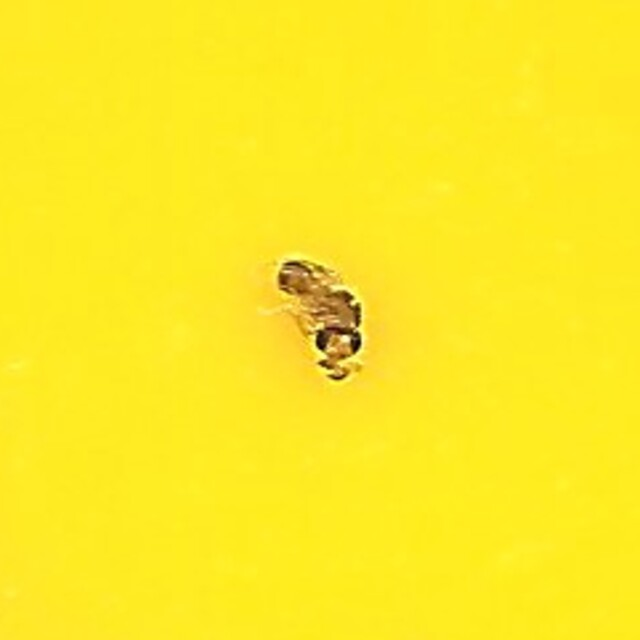Brachycera: (266, 248, 374, 392)
